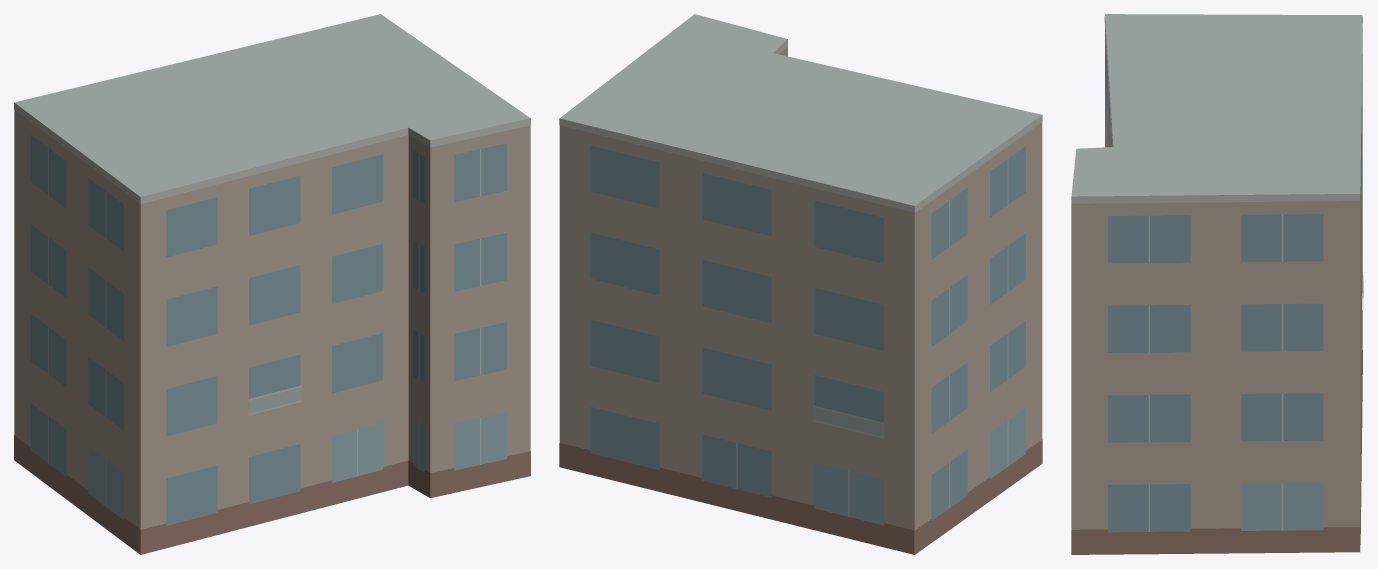
The model's file is survey-upis-32839702.glb.
3 views of the same model, side by side, from view 1: azimuth 30°, elevation 25°; view 2: azimuth 150°, elevation 25°; view 3: azimuth 270°, elevation 25° (orthographic). The views are drawn at different scales.
Parts seen in each view (by area): view 1: survey-upis-32839702.tmp; view 2: survey-upis-32839702.tmp; view 3: survey-upis-32839702.tmp.
Part boxes in pixels (left/top/right/bottom): survey-upis-32839702.tmp: left=14, top=14, right=530, bottom=554; survey-upis-32839702.tmp: left=559, top=14, right=1042, bottom=554; survey-upis-32839702.tmp: left=1071, top=14, right=1363, bottom=554.
Size of the model in its own units: 13.34 by 12.2 by 9.03.
